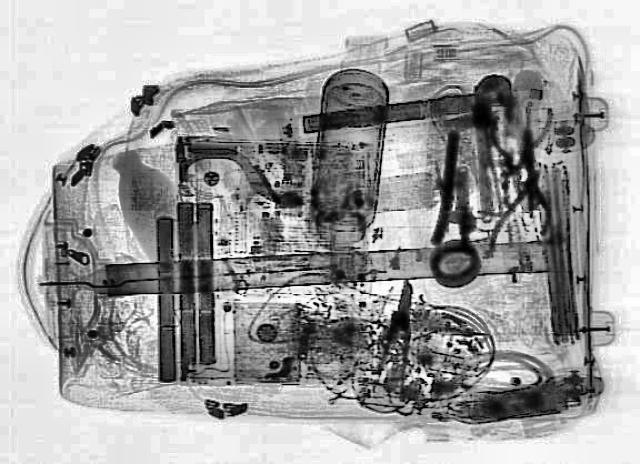Pliers: (365, 277, 425, 397), (488, 173, 554, 254), (460, 103, 520, 186), (520, 100, 554, 152)
